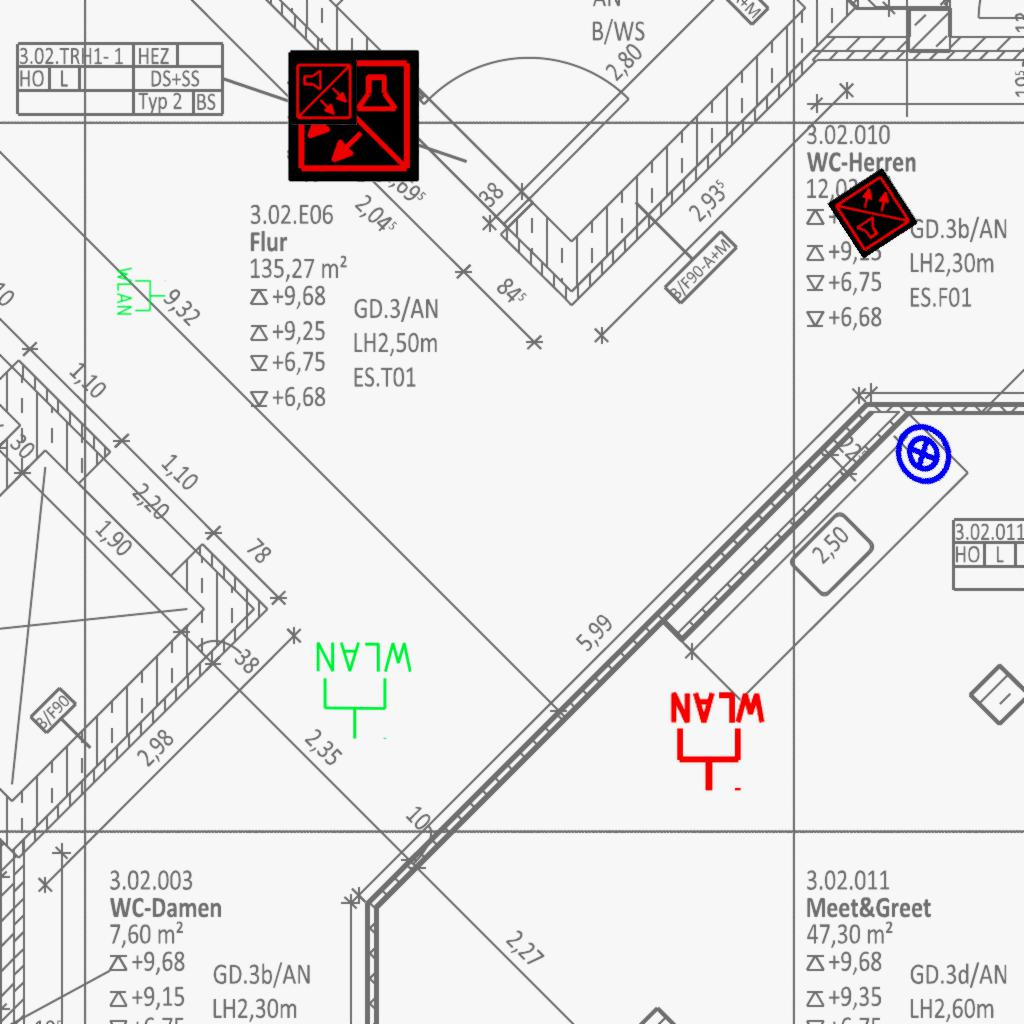OKW_Multisensormelder_(Kombination_optischer_Rauch-Kahlenmonoxid_Waerme-Melder): (287, 50, 419, 182), (827, 167, 919, 259), (291, 59, 357, 125)
Taster_beleuchtet: (879, 410, 967, 498)
WLAN: (666, 690, 770, 795), (312, 638, 417, 742), (115, 265, 167, 317)
